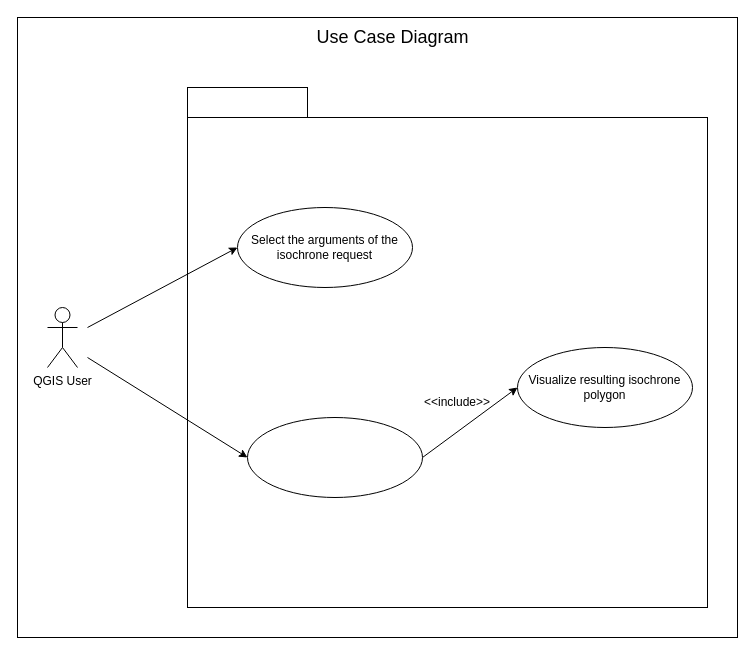
The diagram is 755 pixels wide and 655 high, and some of its shapes have lost their labels. The shapes that lost their labels are listed below. From the top down, each one's box as (x1, y1, x2, y2) in pixels, then its label:
(186, 86, 308, 118): Plugin
(246, 416, 422, 498): Calcul ate all reachable points from a starting point in a certain time
